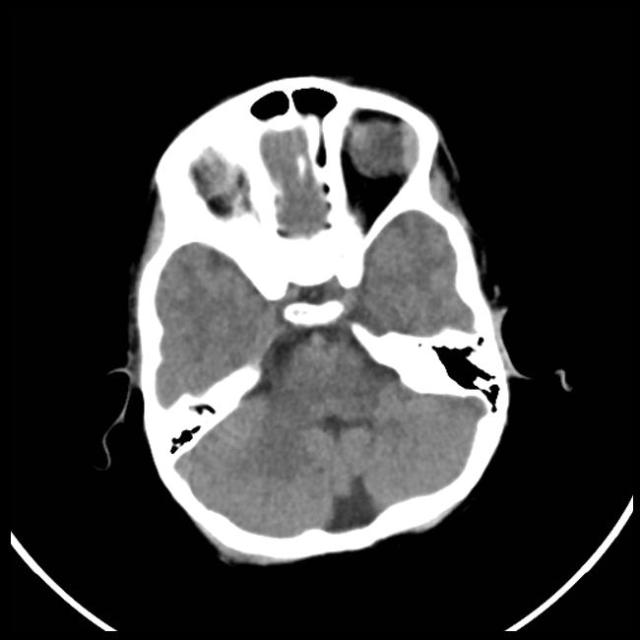lesion: (119, 72, 527, 567)
